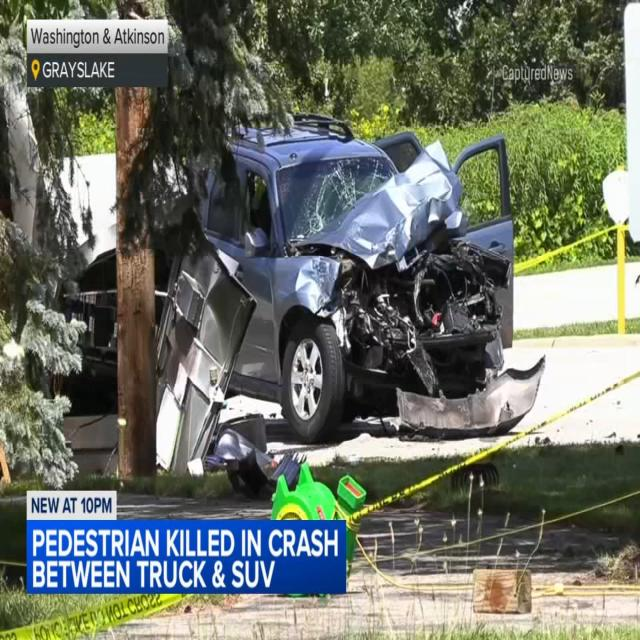crush: (297, 139, 546, 441)
